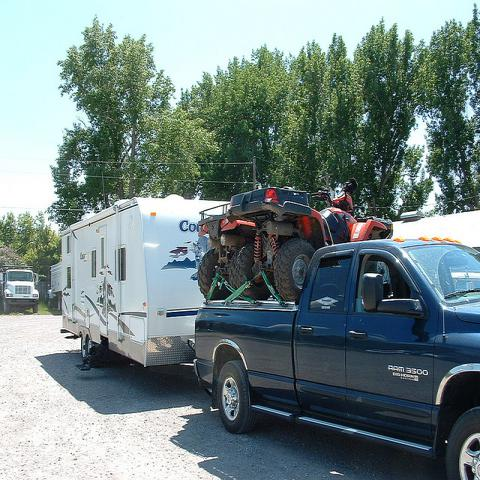truck: (179, 239, 480, 479), (1, 266, 40, 314)
